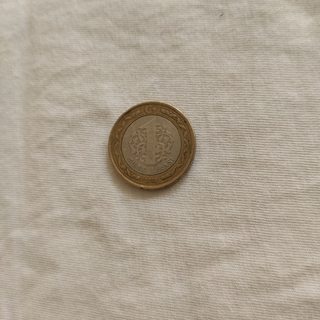1TL: (106, 100, 197, 191)
